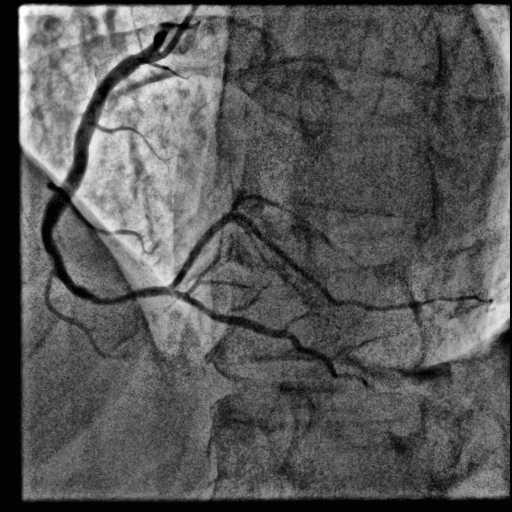pborca: (170, 212, 479, 311)
pda: (169, 289, 368, 385)
rca: (41, 41, 176, 306)
